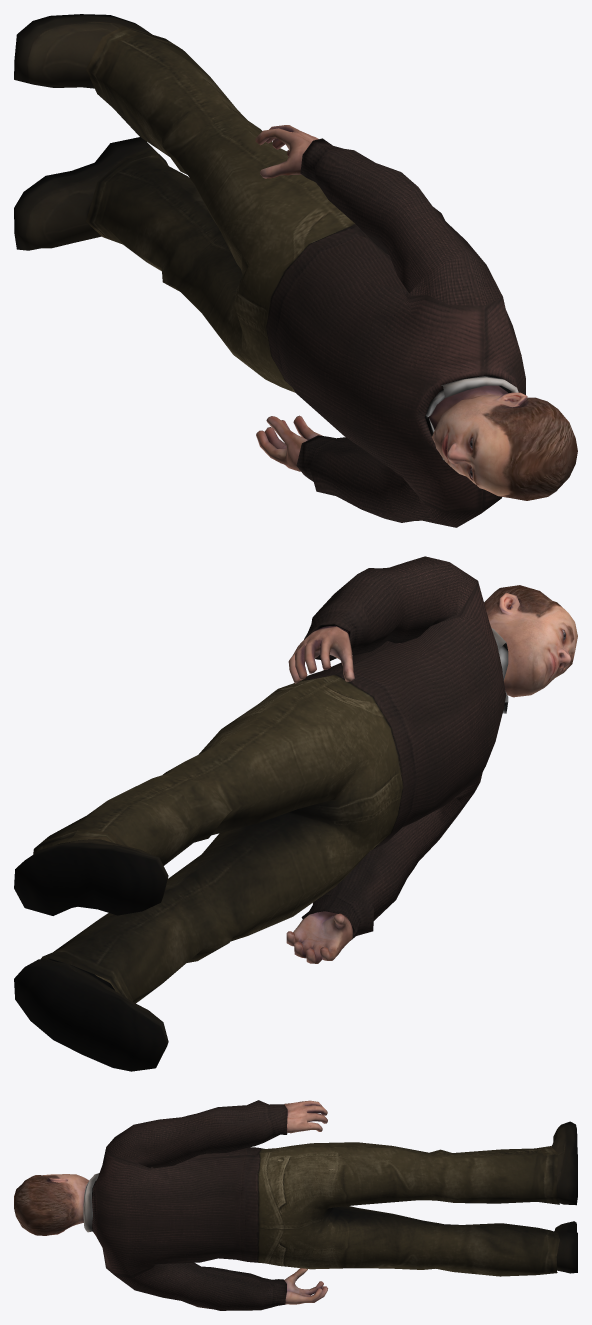
Rendered from Alfred.obj.
The picture shows the model from 3 angles, top to bottom: view 1: azimuth 30°, elevation 25°; view 2: azimuth 150°, elevation 25°; view 3: azimuth 270°, elevation 25°; orthographic projection. The views are drawn at different scales.
Parts seen in each view (by area): view 1: Alfred_low_Cube.002; view 2: Alfred_low_Cube.002; view 3: Alfred_low_Cube.002.
Boxes of the visible parts, box(x1,y1,x2,y2) form: Alfred_low_Cube.002: box(14, 14, 577, 527); Alfred_low_Cube.002: box(14, 556, 577, 1071); Alfred_low_Cube.002: box(14, 1100, 577, 1310).
Size of the model in its own units: 1.84 by 3.9 by 9.75.
Materials: 1 (1 with a texture image).
